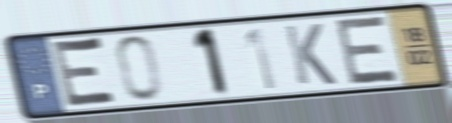0: (112, 32, 168, 105)
1: (190, 26, 232, 98), (243, 26, 278, 90)
E: (50, 35, 122, 111), (333, 14, 402, 88)
K: (281, 22, 340, 88)
